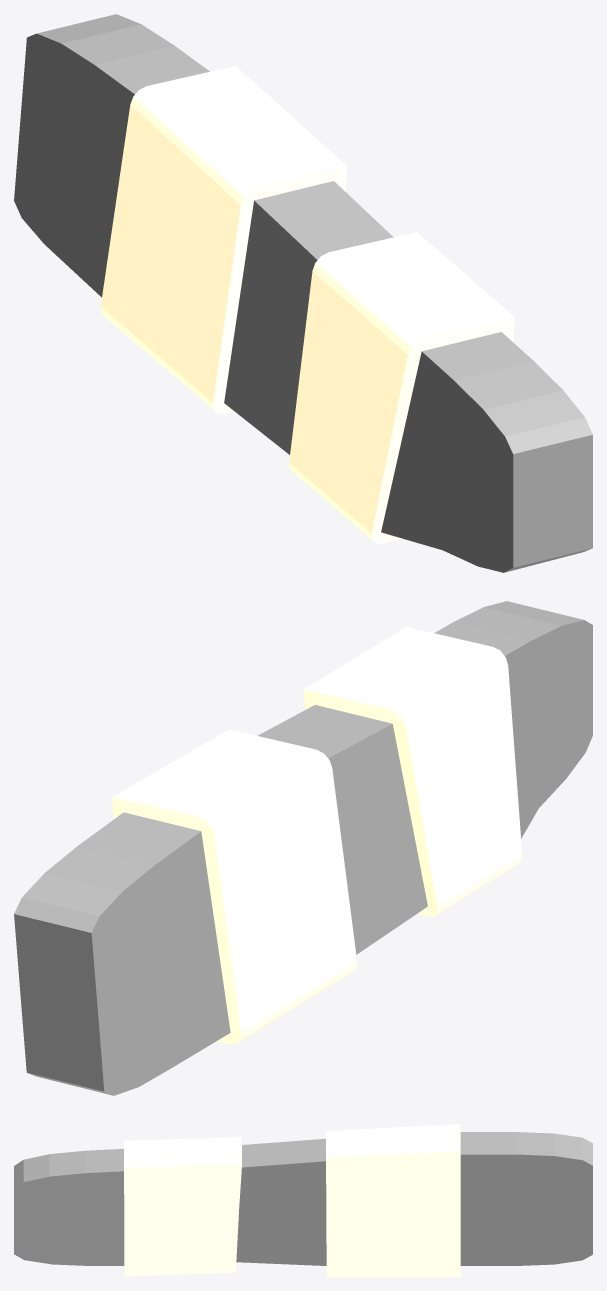
The model's file is tala.fbx.
3 views of the same model, one above another, from view 1: azimuth 30°, elevation 25°; view 2: azimuth 150°, elevation 25°; view 3: azimuth 270°, elevation 25° (orthographic). The views are drawn at different scales.
Parts seen in each view (by area): view 1: Tala; view 2: Tala; view 3: Tala.
Part boxes in pixels (x1,y1,x2,y2): Tala: (14,14,592,572); Tala: (14,601,592,1095); Tala: (14,1124,592,1276).
Bounding box in the file's own units: 194 × 314 × 1175.
